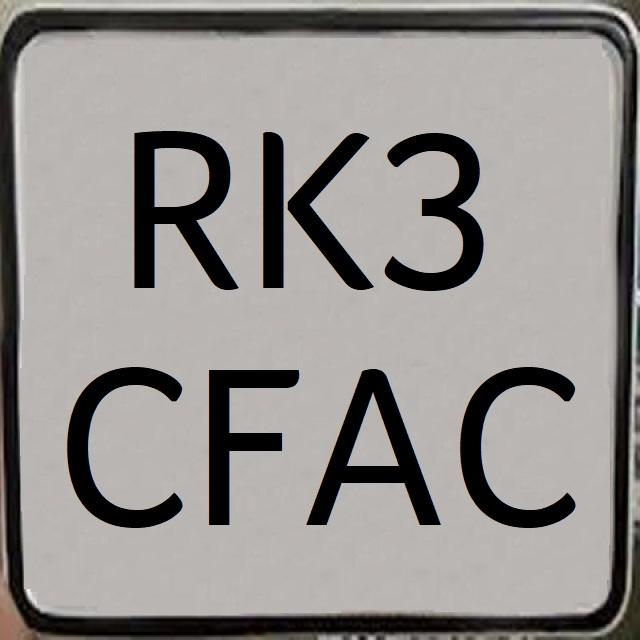A: (300, 344, 439, 553)
F: (210, 343, 305, 526)
K: (258, 117, 373, 306)
R: (126, 110, 243, 306)
